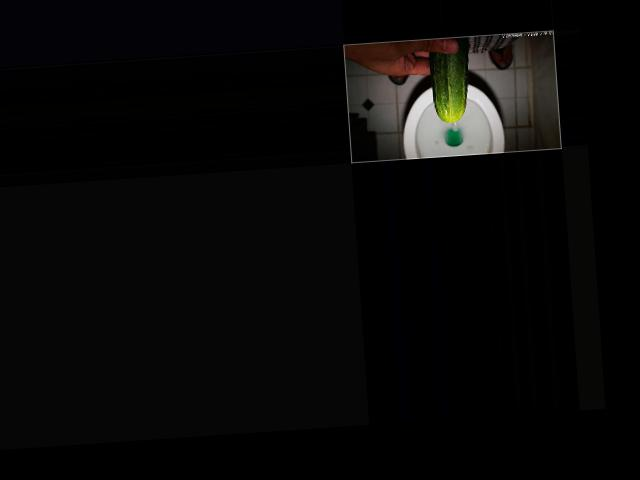cucumber: (428, 35, 474, 123)
